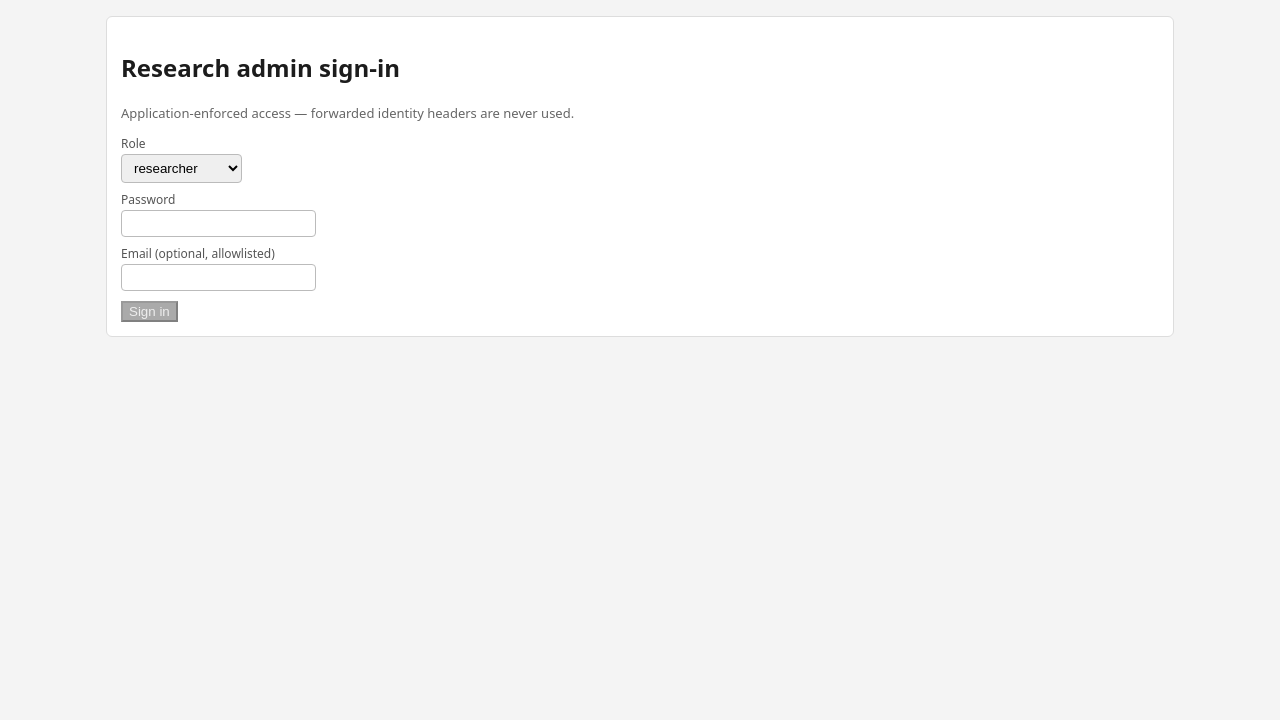
AdminApp › logs in as researcher and shows researcher tabs
The image size is (1280, 720).
In the password field labelled "Password": (218, 223) [121,210,316,237], type "pw"
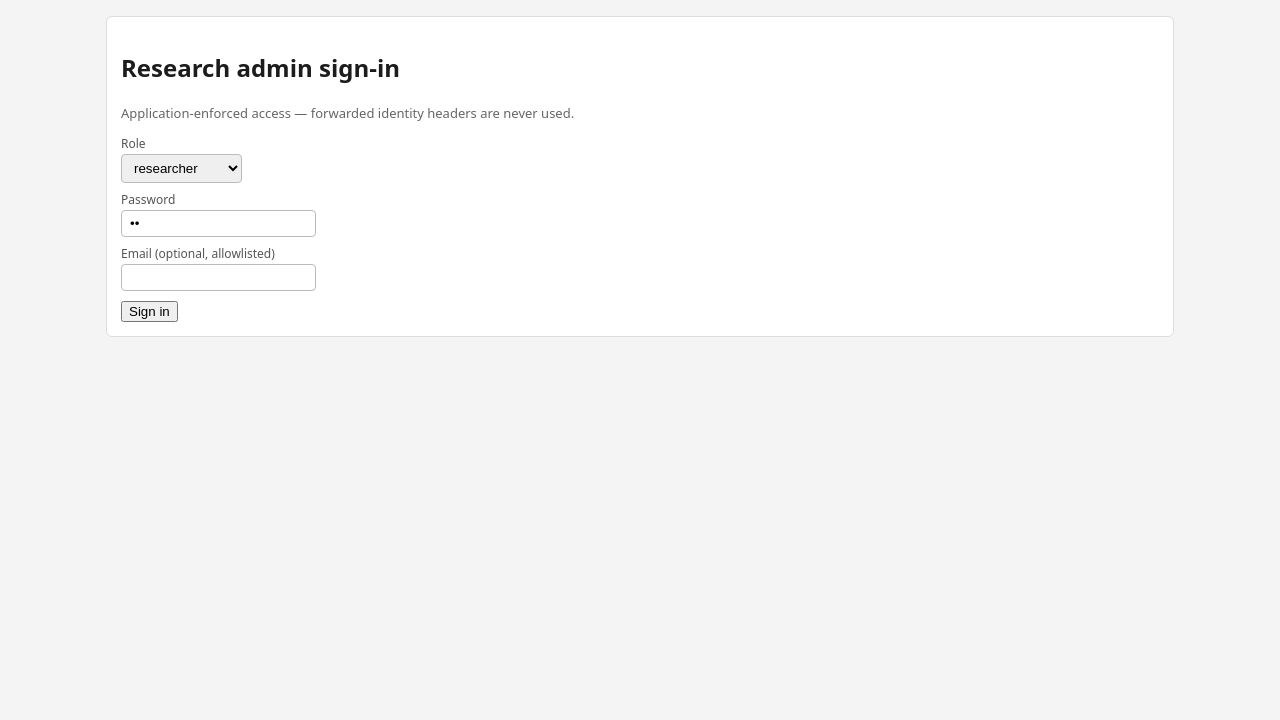
Click the button "Sign in": click(149, 311) [121,301,178,322]
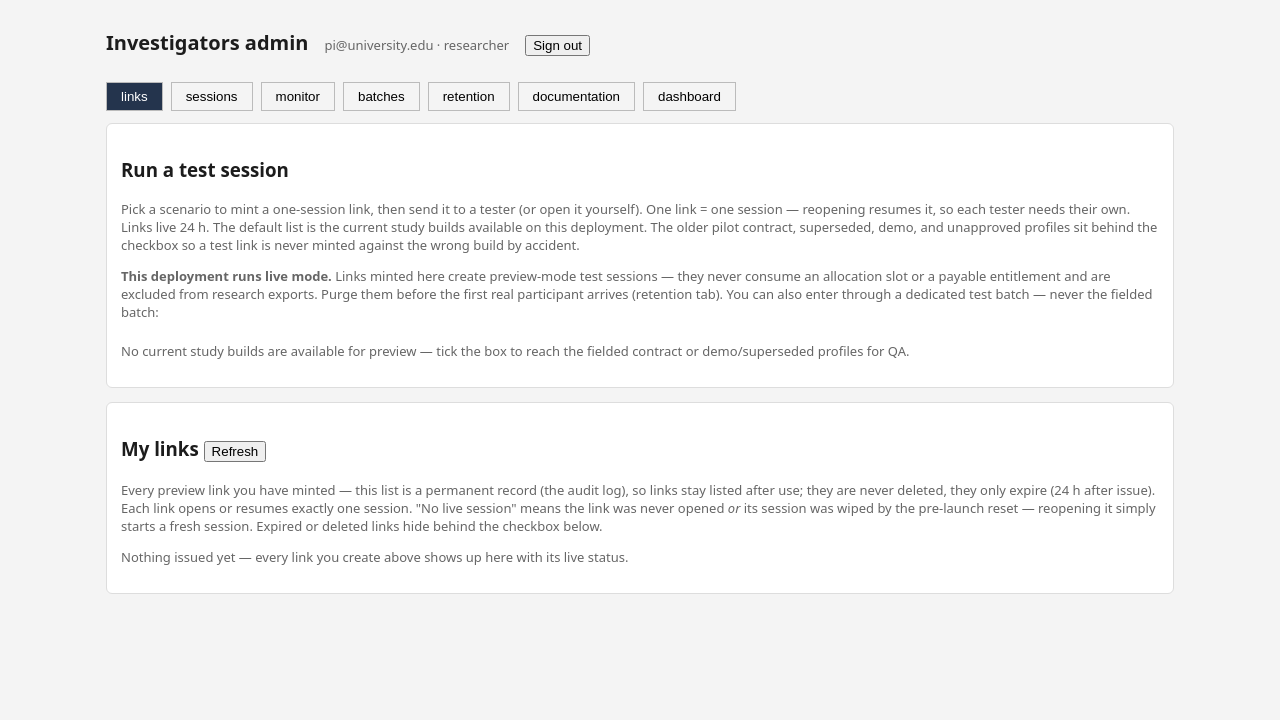
expect the button "monitor" is shown: met, box [260,82,335,111]
expect the button "sessions" is shown: met, box [171,82,253,111]
expect the button "documentation" is shown: met, box [518,82,635,111]
